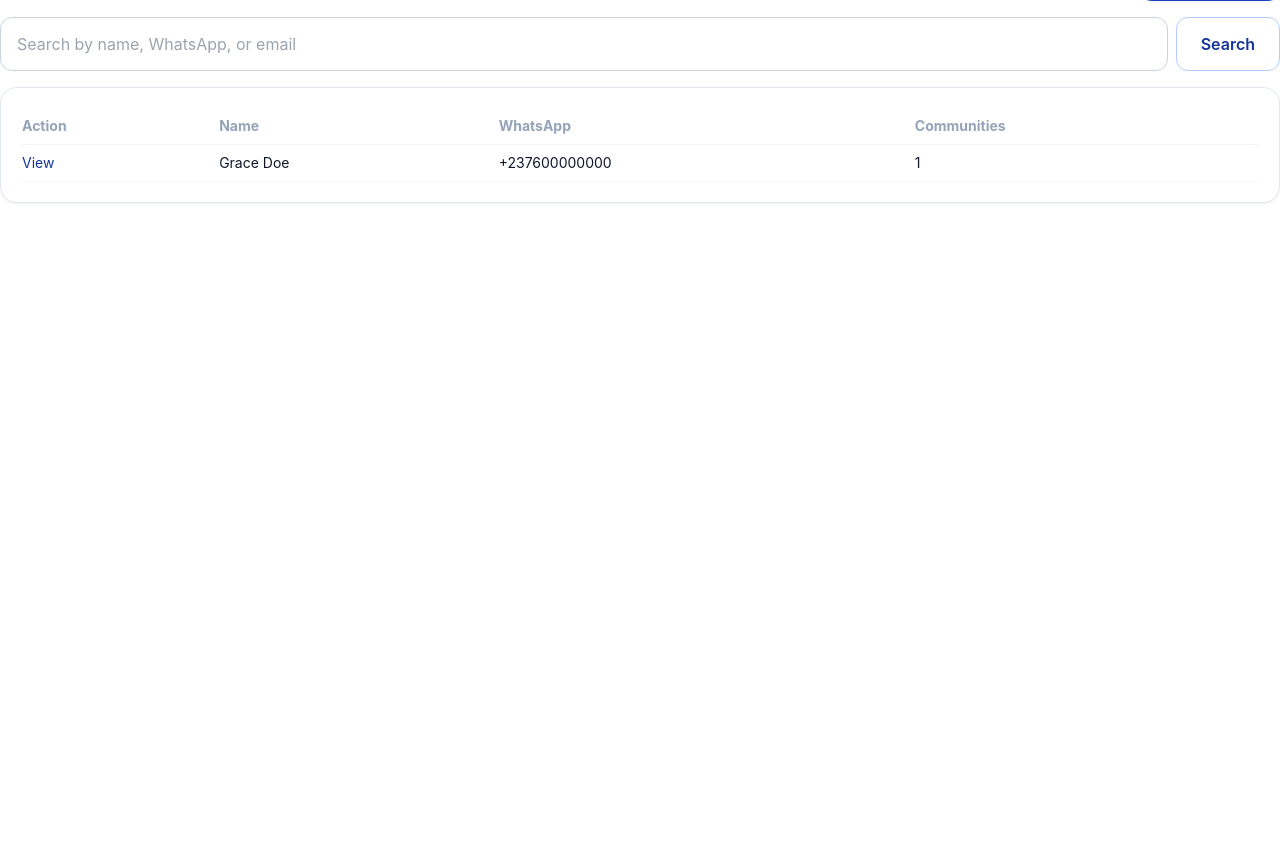
PeopleTab — Member Reassignment (Move) › allows selecting a destination Community other than the current one
This screenshot has width=1280, height=853.
Step 1. Click the button "View" → coordinates (38, 163), box [22,153,54,173]
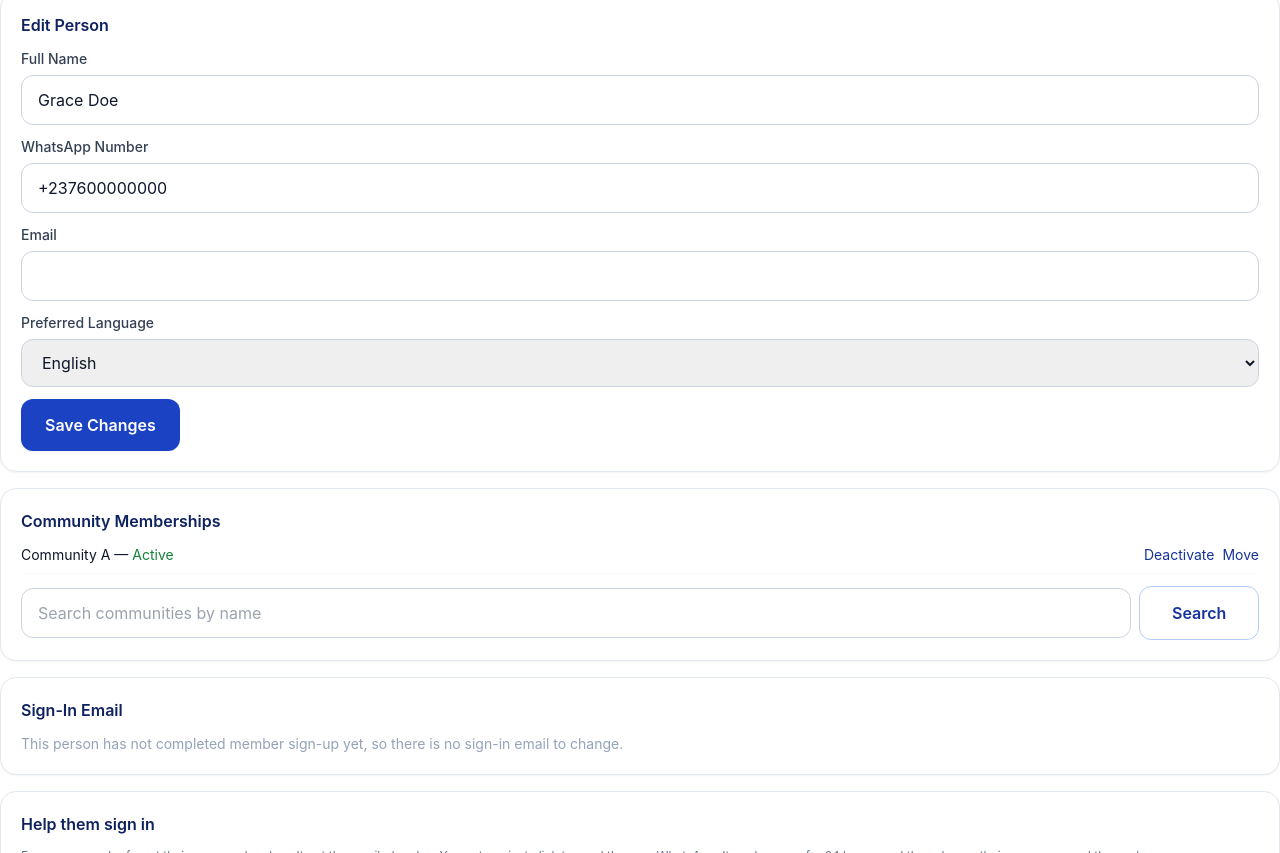
Expected: the text "Community A — Active" is shown, [21,545,174,565]
Step 2. Click the button "Move" → coordinates (1241, 555), box [1222,545,1259,565]
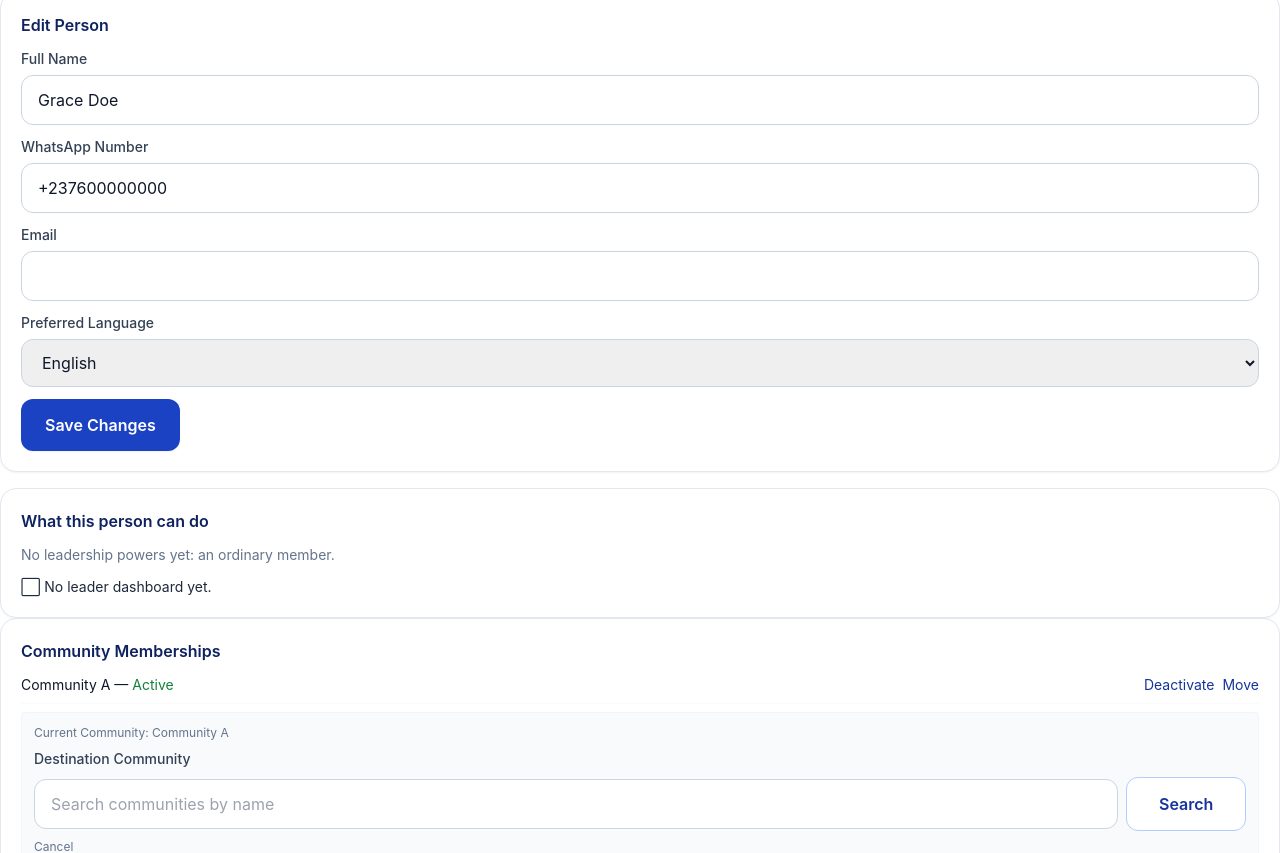
Step 3. Type "Dest" into the field with placeholder "Search communities by name" → coordinates (576, 804), box [34,779,1118,829]
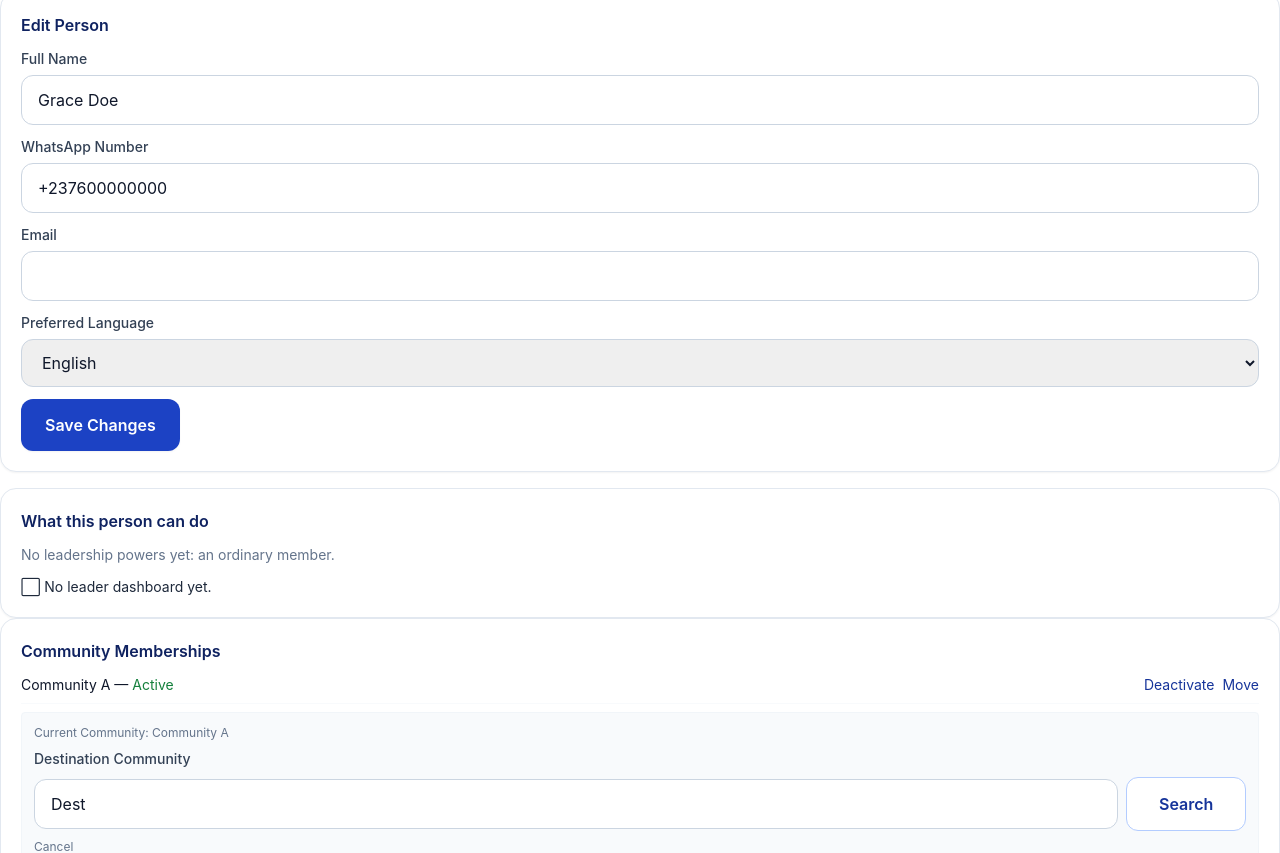
Step 4. Click the button "Search" → coordinates (1186, 804), box [1126,777,1246,831]
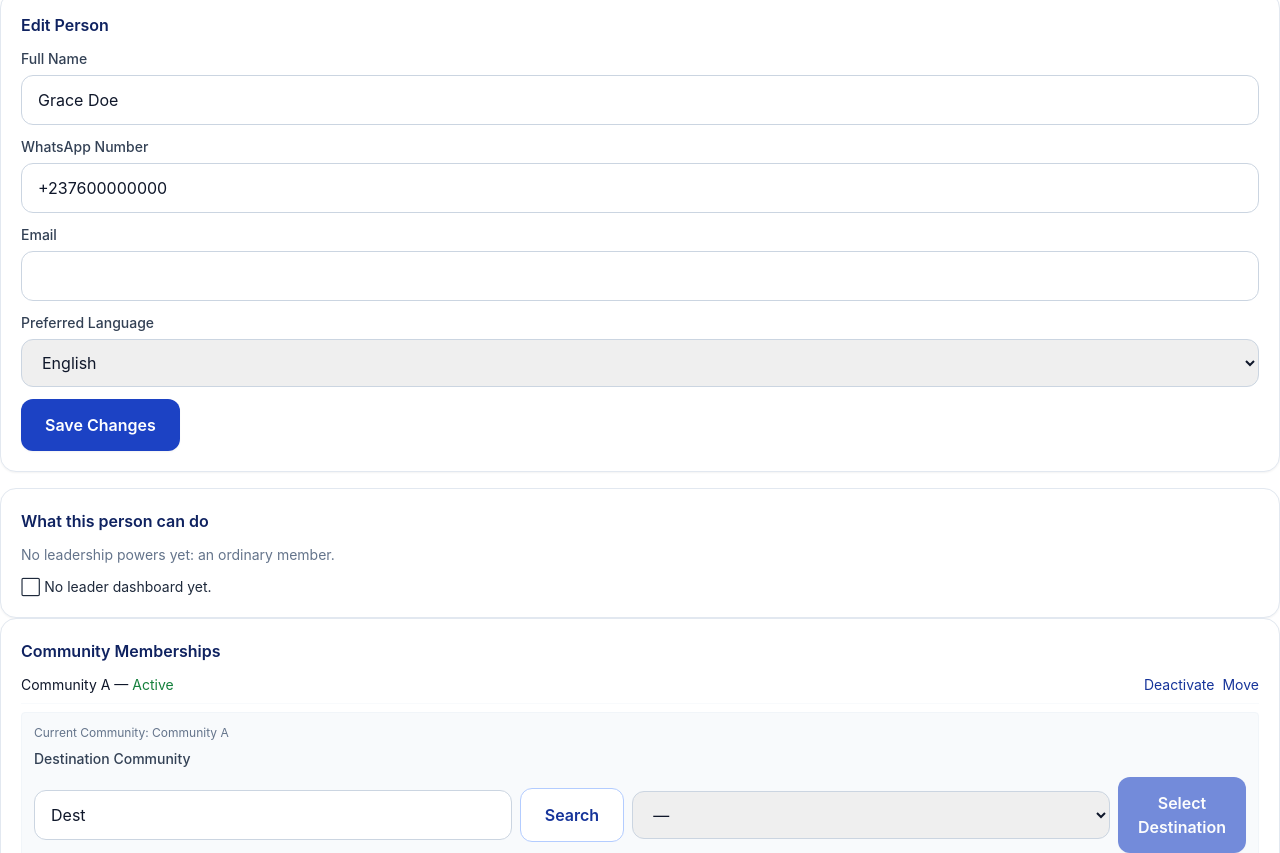
Expected: the 2nd dropdown is shown
Step 5. Select "Community B" in the 2nd dropdown → coordinates (871, 815), box [632,791,1110,839]
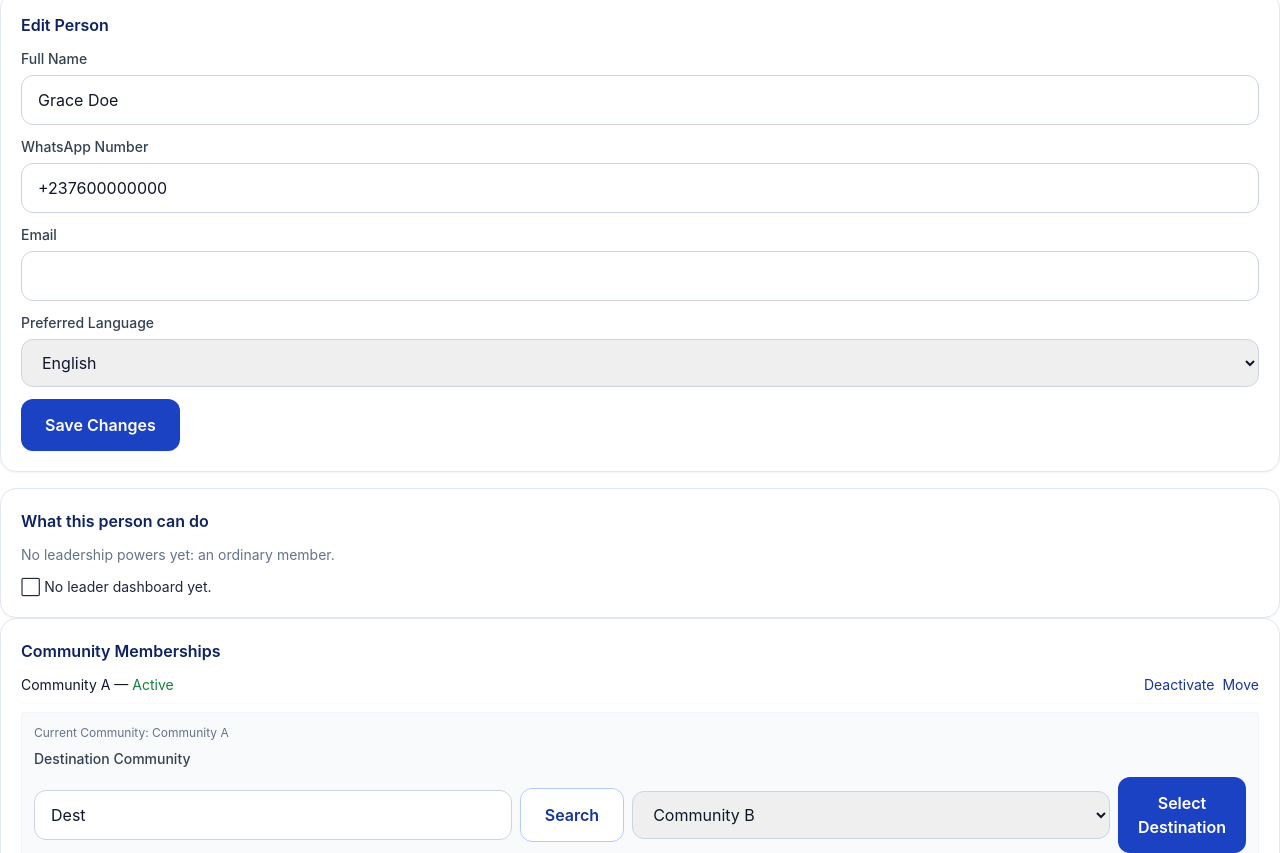
Step 6. Click the button "Select Destination" → coordinates (1182, 815), box [1118,777,1246,852]
(page scrolled)
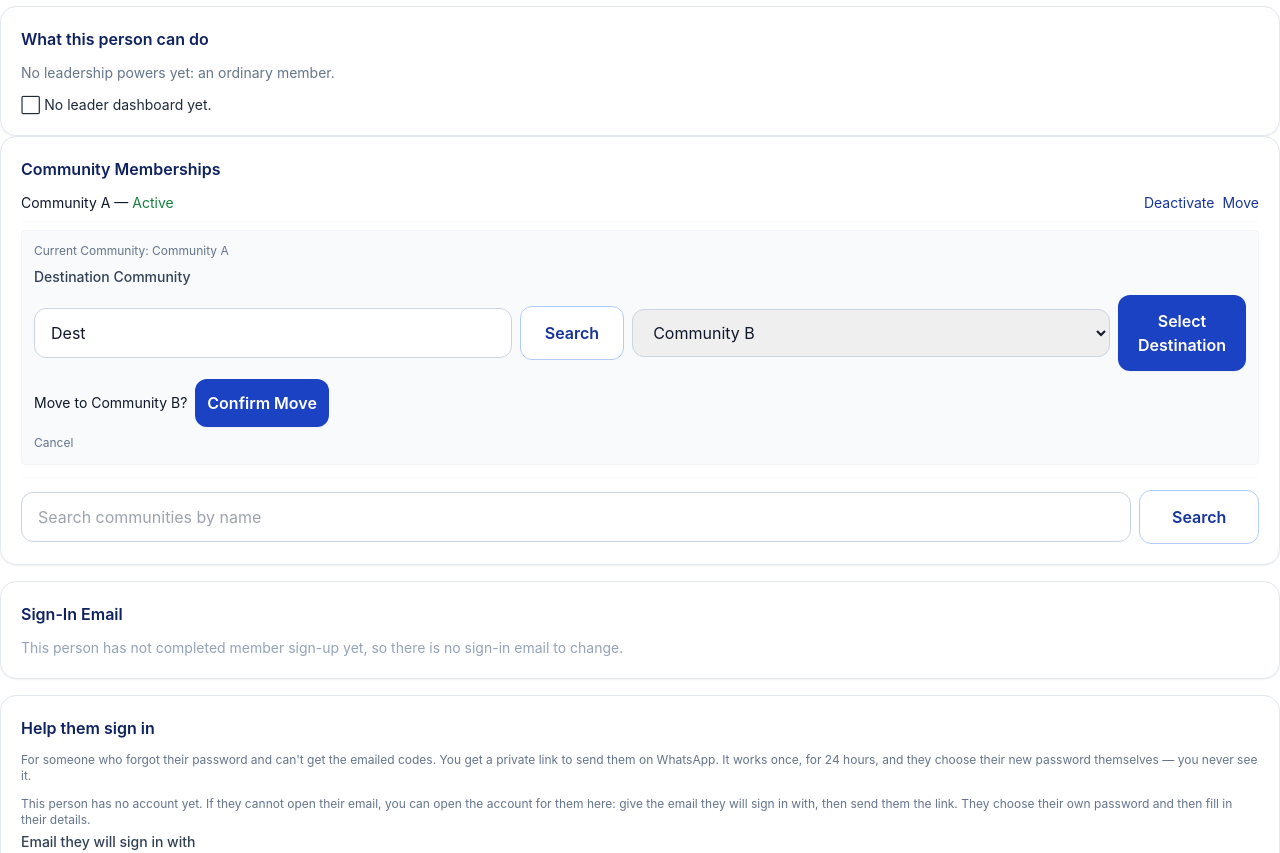
Expected: the text "Move to Community B?" is shown, [34,393,187,413]
